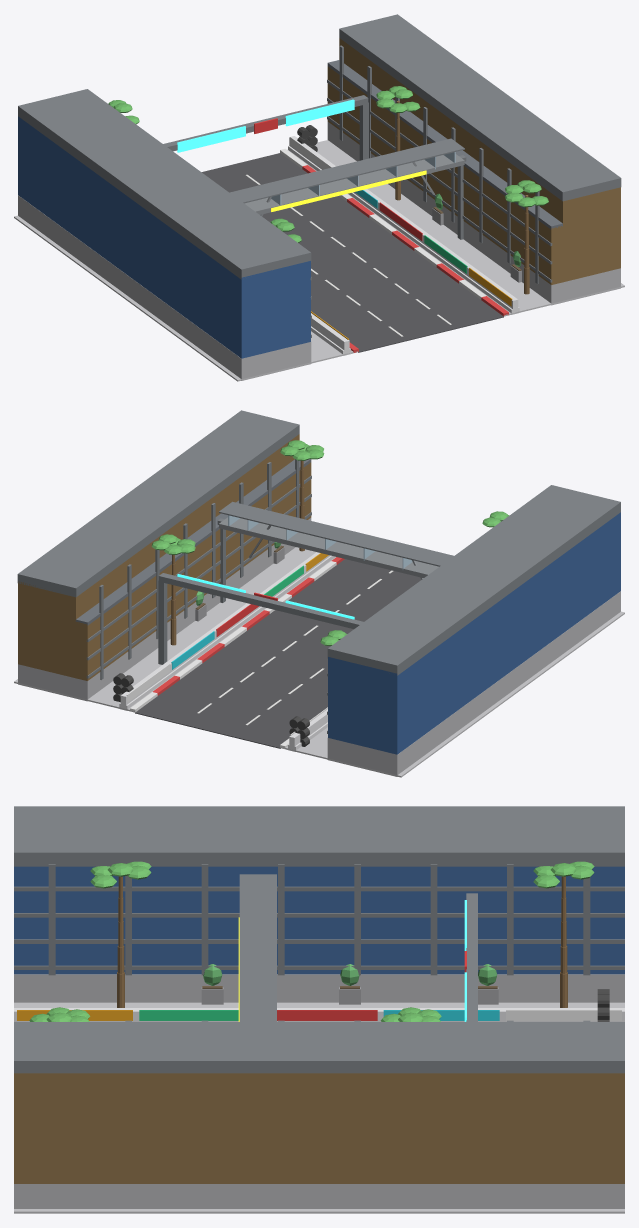
The model's file is env2-1.glb.
3 views of the same model, one above another, from view 1: azimuth 30°, elevation 25°; view 2: azimuth 150°, elevation 25°; view 3: azimuth 270°, elevation 25° (orthographic). The views are drawn at different scales.
Visible parts, largest first — view 1: env2-1.001; view 2: env2-1.001; view 3: env2-1.001.
Boxes of the visible parts, x1,y1,x2,y2 form: env2-1.001: (14,14,624,381); env2-1.001: (14,410,624,777); env2-1.001: (14,806,624,1213).
Size of the model in its own units: 20 by 5.94 by 20.
